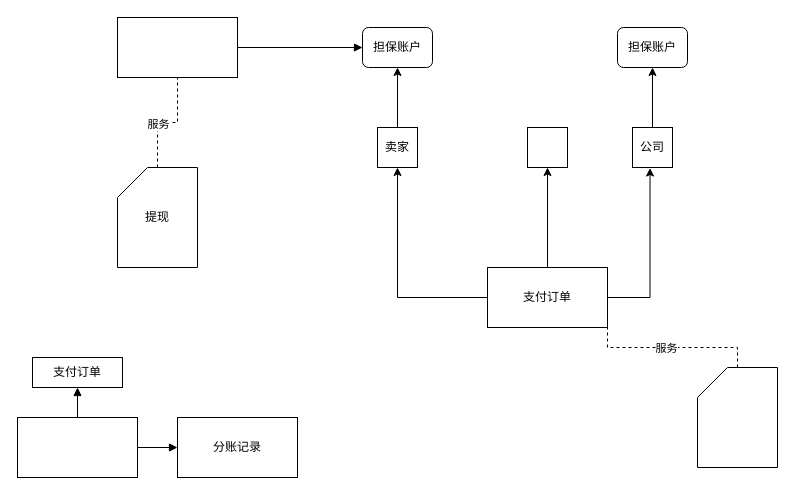
This 795x495 diagram has some shape labels left out. Each missing label, with the centre of its shape:
"买家" belongs at [547,147].
"分账订单" belongs at [77,447].
"提现记录" belongs at [177,47].
"支付 确认收货" belongs at [737,417].
